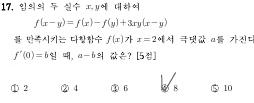choice: (159, 76, 171, 93)
not-choice: (59, 83, 70, 93), (209, 83, 220, 93), (110, 83, 120, 93), (10, 83, 19, 93)
